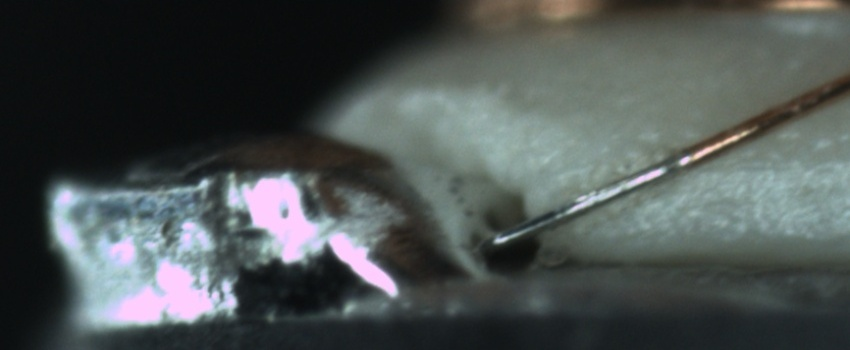DL: (685, 138, 850, 202)
TS: (486, 154, 686, 253)
